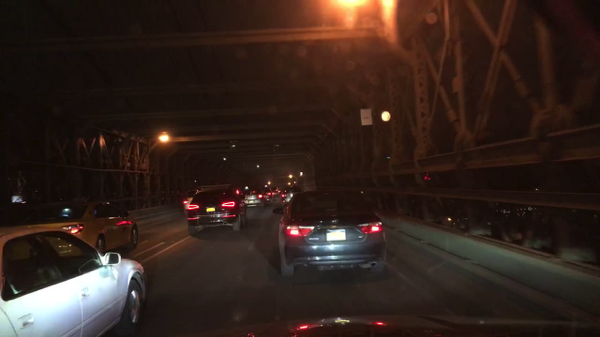car: (1, 226, 148, 337), (272, 189, 387, 277), (0, 199, 138, 259), (188, 185, 247, 233), (243, 188, 265, 206), (183, 188, 197, 216), (280, 185, 297, 203), (262, 186, 272, 202), (272, 188, 279, 195)
